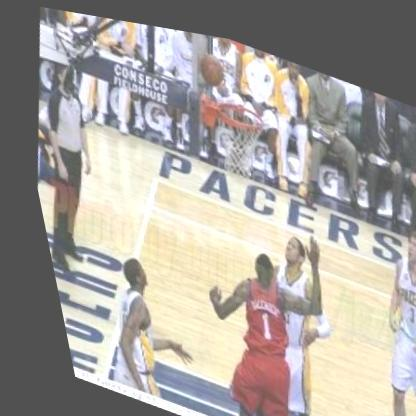basketball: (189, 38, 235, 87)
